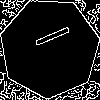I: (24, 23, 71, 54)
